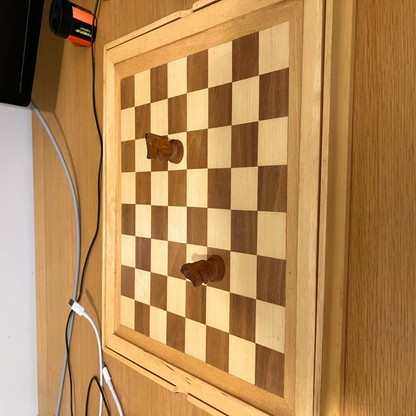knight_black: (182, 254, 225, 285), (146, 133, 184, 162)
